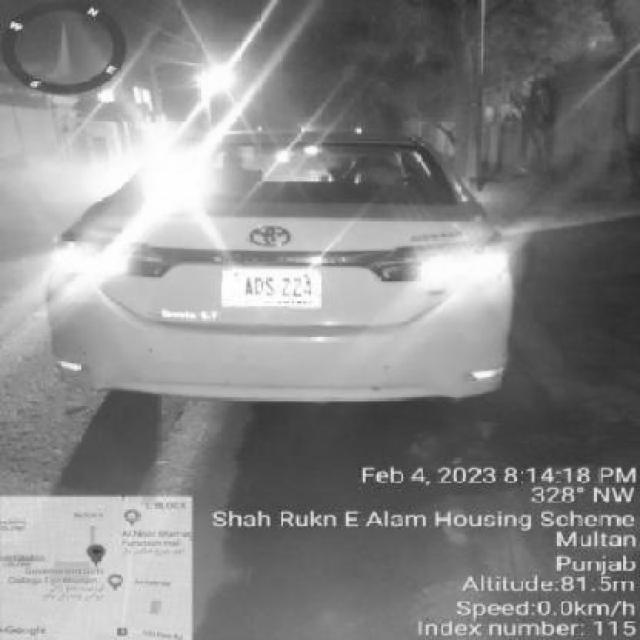licenseplate: (209, 267, 340, 316)
